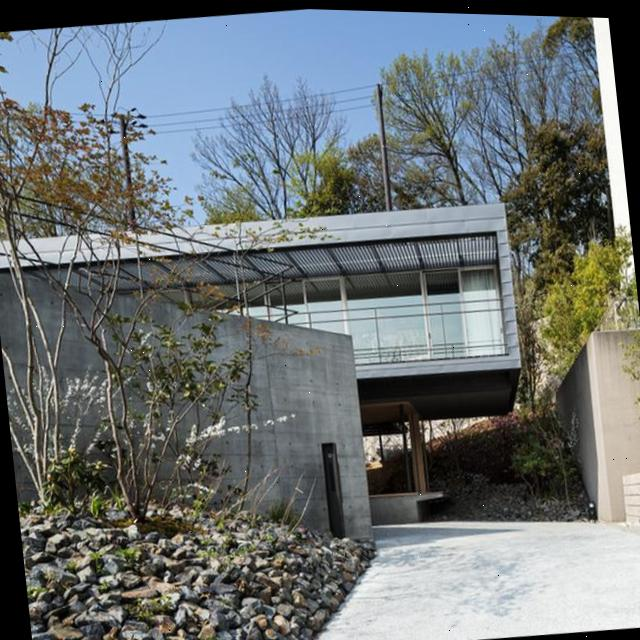building: (0, 179, 539, 582)
